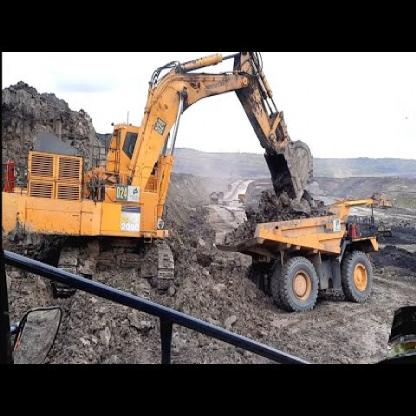dump_truck: (227, 195, 389, 310)
excavator: (10, 53, 310, 296)
